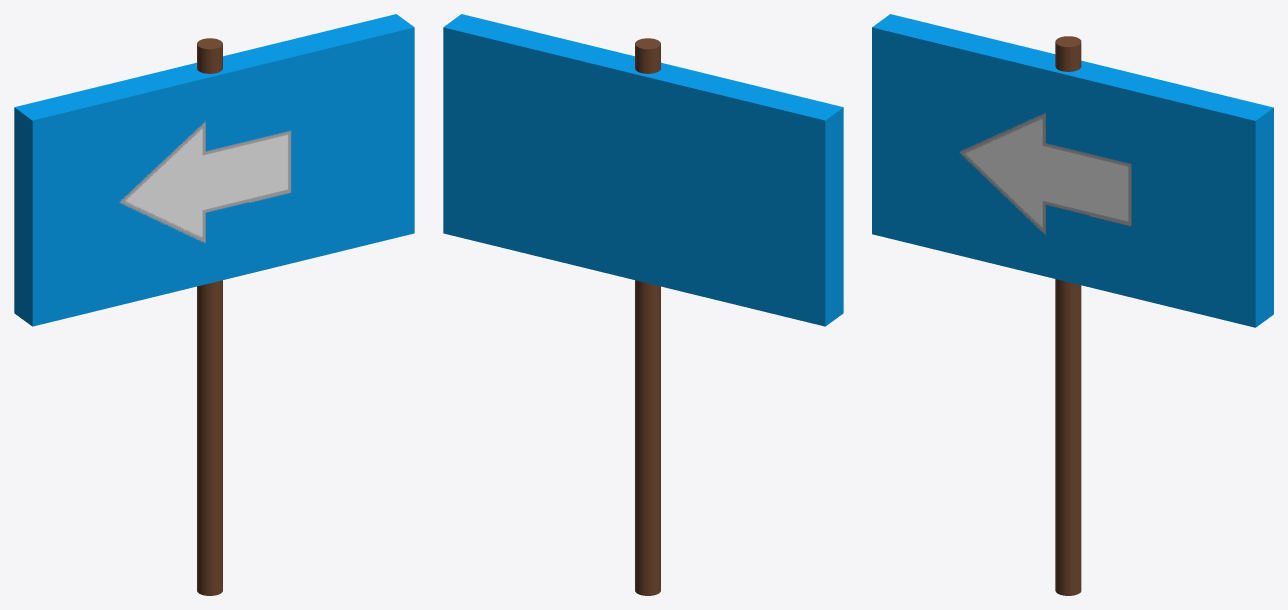
The model's file is placa2.glb.
3 renders of one model, left to right at view 1: azimuth 30°, elevation 25°; view 2: azimuth 150°, elevation 25°; view 3: azimuth 330°, elevation 25°, orthographic.
Visible parts, largest first — view 1: mesh_id68, mesh_id72; view 2: mesh_id68, mesh_id72; view 3: mesh_id68, mesh_id72.
Boxes of the visible parts, x1,y1,x2,y2 form: mesh_id68: (14,14,414,326); mesh_id72: (197,38,222,595); mesh_id68: (443,14,843,326); mesh_id72: (635,38,660,595); mesh_id68: (872,14,1273,327); mesh_id72: (1055,36,1081,595).
Size of the model in its own units: 0.3485 by 0.4764 by 0.0288.
Materials: 2 (2 with a texture image).
